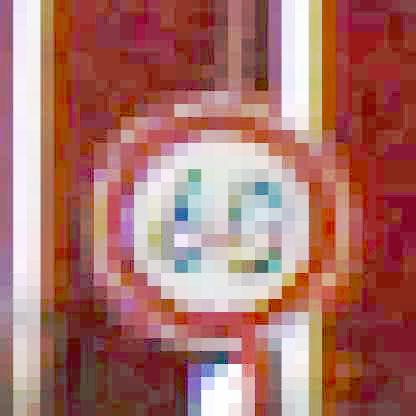Speed Limit -60-: (87, 95, 348, 354)
